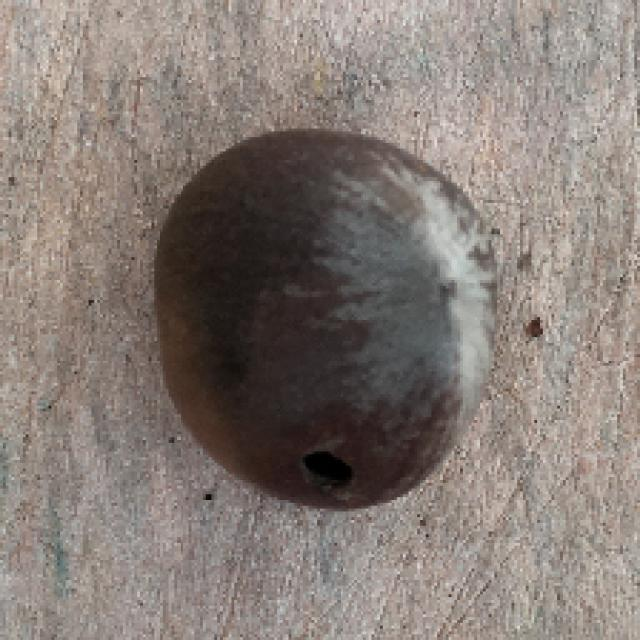DamagedHazelnut: (149, 128, 502, 512)
